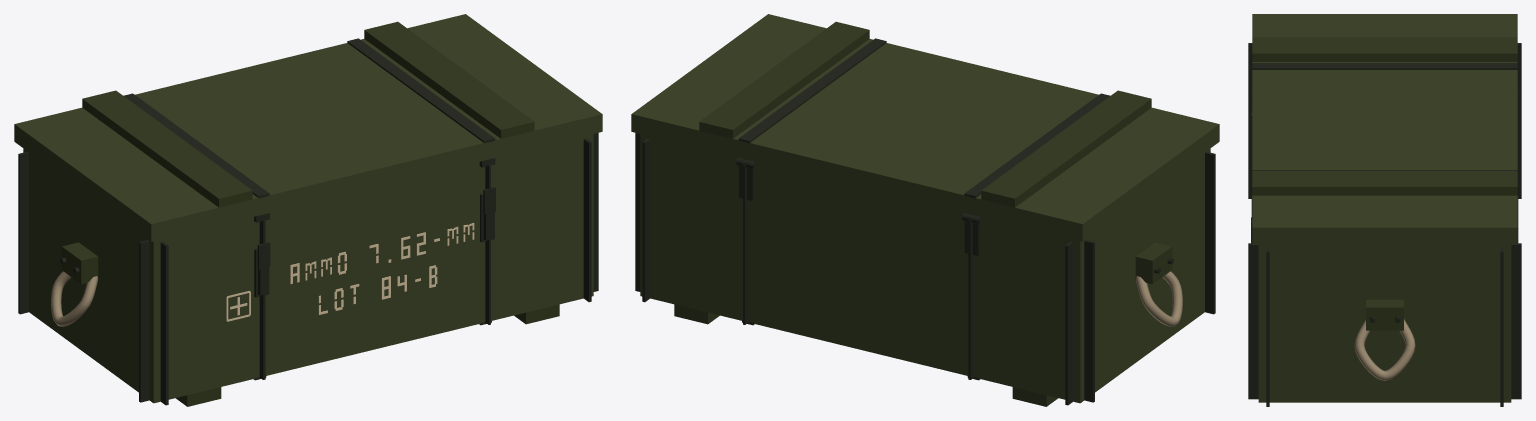
The model's file is ammo-crate.glb.
The picture shows the model from 3 angles, left to right: view 1: azimuth 30°, elevation 25°; view 2: azimuth 150°, elevation 25°; view 3: azimuth 270°, elevation 25°; orthographic projection. The views are drawn at different scales.
Visible parts, largest first — view 1: Mesh_BodyWood, Mesh_LidWood, Mesh_LidSlatLeft, Mesh_LidSlatRight, Mesh_Band_Right_Top, Mesh_Bracket_FL_Side, Mesh_Bracket_BL_Side, Mesh_Bracket_FL_Front, Mesh_Bracket_FR_Front, Mesh_Band_Left_Top, Mesh_RopeHandle_L, Mesh_HandleCleat_L (+3 smaller); view 2: Mesh_BodyWood, Mesh_LidWood, Mesh_LidSlatLeft, Mesh_LidSlatRight, Mesh_Band_Right_Top, Mesh_Bracket_BL_Side, Mesh_Bracket_FL_Side, Mesh_Bracket_BL_Back, Mesh_Bracket_BR_Back, Mesh_Band_Left_Top, Mesh_RopeHandle_L, Mesh_HandleCleat_L (+3 smaller); view 3: Mesh_LidWood, Mesh_BodyWood, Mesh_LidSlatLeft, Mesh_LidSlatRight, Mesh_Band_Left_Top, Mesh_Bracket_FR_Front, Mesh_Bracket_BR_Back, Mesh_RopeHandle_R, Mesh_HandleCleat_R, Mesh_Bracket_BL_Back, Mesh_Bracket_FR_Side, Mesh_Bracket_BR_Side (+2 smaller).
Boxes of the visible parts, x1=… form: Mesh_BodyWood: x1=23, y1=134, x2=593, y2=403; Mesh_LidWood: x1=14, y1=14, x2=602, y2=241; Mesh_LidSlatLeft: x1=82, y1=90, x2=252, y2=207; Mesh_LidSlatRight: x1=364, y1=21, x2=534, y2=138; Mesh_Band_Right_Top: x1=347, y1=38, x2=495, y2=143; Mesh_Bracket_FL_Side: x1=139, y1=240, x2=149, y2=402; Mesh_Bracket_BL_Side: x1=18, y1=151, x2=28, y2=314; Mesh_Bracket_FL_Front: x1=160, y1=241, x2=168, y2=405; Mesh_Bracket_FR_Front: x1=583, y1=138, x2=591, y2=302; Mesh_Band_Left_Top: x1=123, y1=93, x2=269, y2=198; Mesh_RopeHandle_L: x1=51, y1=271, x2=97, y2=326; Mesh_HandleCleat_L: x1=61, y1=242, x2=98, y2=284; Mesh_BodyWood: x1=640, y1=134, x2=1210, y2=403; Mesh_LidWood: x1=631, y1=14, x2=1219, y2=241; Mesh_LidSlatLeft: x1=981, y1=90, x2=1151, y2=207; Mesh_LidSlatRight: x1=699, y1=21, x2=869, y2=138; Mesh_Band_Right_Top: x1=738, y1=38, x2=886, y2=143; Mesh_Bracket_BL_Side: x1=1084, y1=240, x2=1094, y2=402; Mesh_Bracket_FL_Side: x1=1205, y1=151, x2=1215, y2=314; Mesh_Bracket_BL_Back: x1=1065, y1=241, x2=1073, y2=405; Mesh_Bracket_BR_Back: x1=642, y1=138, x2=650, y2=302; Mesh_Band_Left_Top: x1=964, y1=93, x2=1110, y2=198; Mesh_RopeHandle_L: x1=1136, y1=271, x2=1182, y2=326; Mesh_HandleCleat_L: x1=1135, y1=242, x2=1172, y2=284; Mesh_LidWood: x1=1252, y1=14, x2=1517, y2=244; Mesh_BodyWood: x1=1258, y1=245, x2=1511, y2=402; Mesh_LidSlatLeft: x1=1252, y1=37, x2=1517, y2=61; Mesh_LidSlatRight: x1=1252, y1=171, x2=1517, y2=195; Mesh_Band_Left_Top: x1=1252, y1=63, x2=1517, y2=69; Mesh_Bracket_FR_Front: x1=1248, y1=243, x2=1258, y2=399; Mesh_Bracket_BR_Back: x1=1511, y1=243, x2=1521, y2=399; Mesh_RopeHandle_R: x1=1354, y1=319, x2=1415, y2=380; Mesh_HandleCleat_R: x1=1366, y1=299, x2=1403, y2=330; Mesh_Bracket_BL_Back: x1=1517, y1=43, x2=1521, y2=198; Mesh_Bracket_FR_Side: x1=1266, y1=248, x2=1269, y2=406; Mesh_Bracket_BR_Side: x1=1500, y1=248, x2=1503, y2=406.
Size of the model in its own units: 0.8952 by 0.345 by 0.432.
